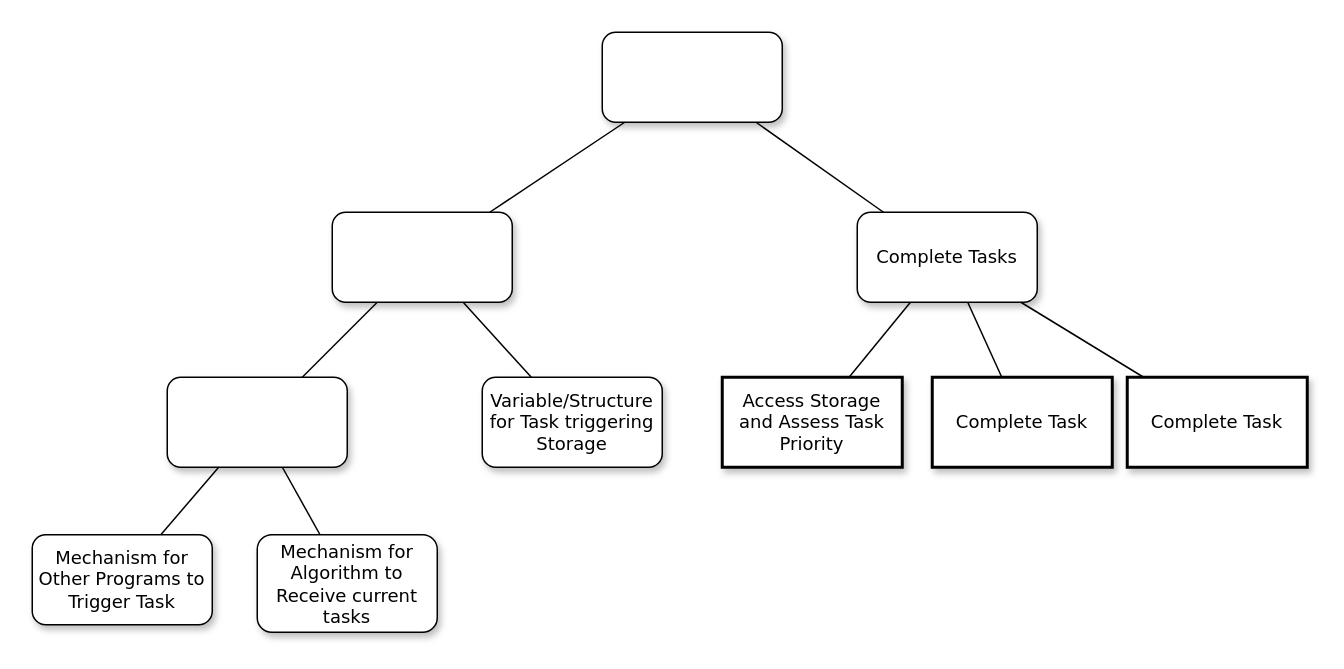
Some shapes in this 1344 by 669 pixel diagram are drawn without their labels. Each missing label, with the centre of its shape:
Other Parts of OS triggers a task: the point at 258,424
Receives Tasks: the point at 423,259
Task Scheduling Algorithm: the point at 693,79
